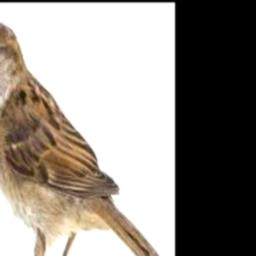Sparrow: (0, 22, 166, 256)
